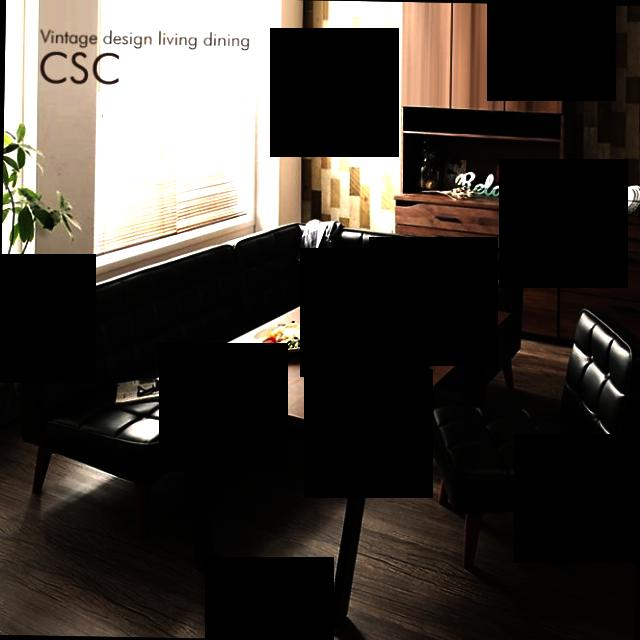vintage chair: (438, 302, 640, 568)
vintage desk: (150, 278, 517, 622)
vintage sofa: (8, 212, 524, 546)
